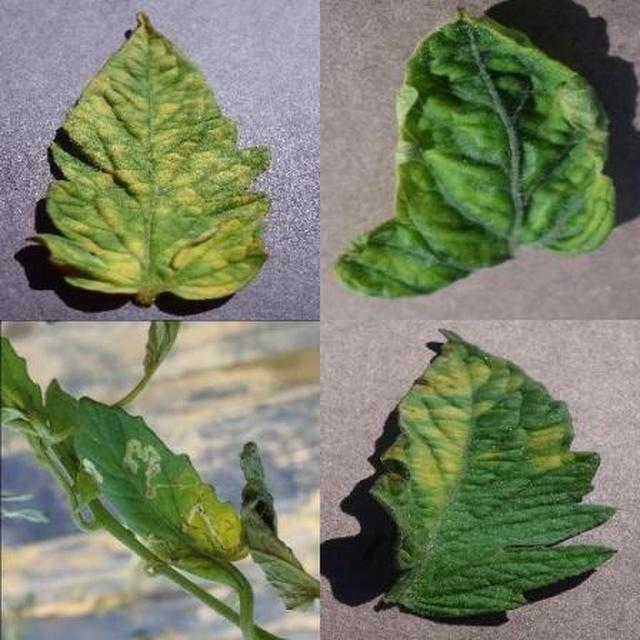Leaf Mold: (220, 219, 640, 640)
